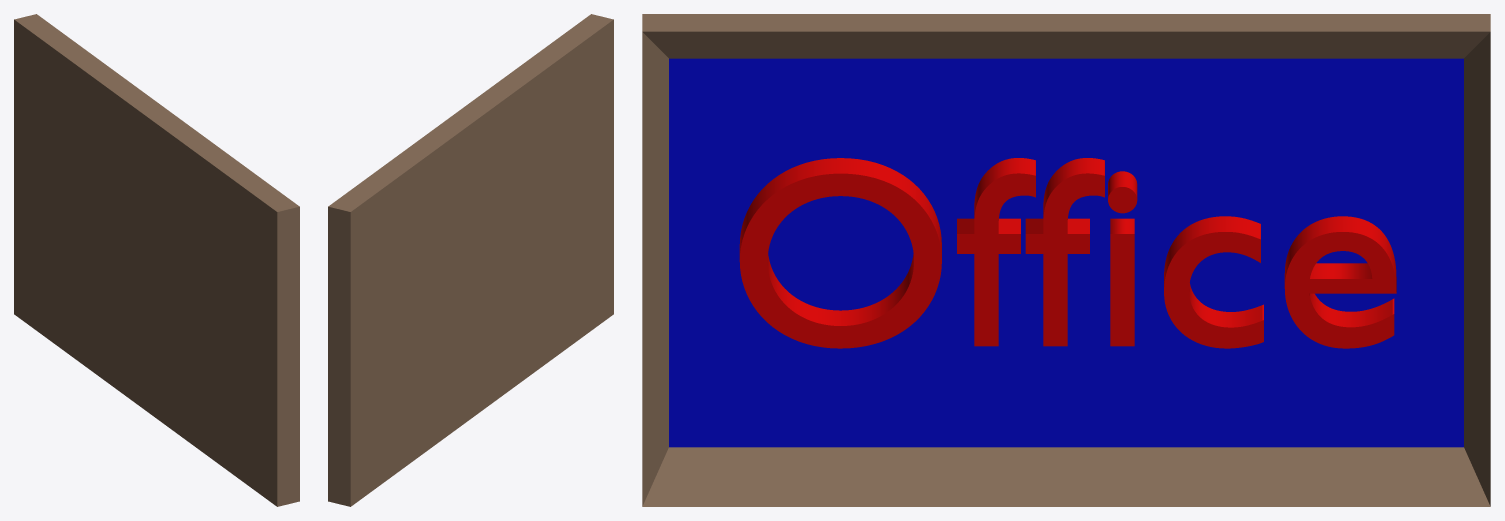
File: Sign_Office.fbx
The picture shows the model from 3 angles, left to right: view 1: azimuth 30°, elevation 25°; view 2: azimuth 150°, elevation 25°; view 3: azimuth 270°, elevation 25°; orthographic projection. The views are drawn at different scales.
Visible parts, largest first — view 1: Office; view 2: Office; view 3: Office, Text.004.
Part boxes in pixels (left/top/right/bottom): Office: left=14, top=14, right=299, bottom=506; Office: left=328, top=14, right=613, bottom=506; Office: left=642, top=14, right=1490, bottom=506; Text.004: left=739, top=158, right=1396, bottom=348.
Size of the model in its own units: 17.78 by 200 by 324.
